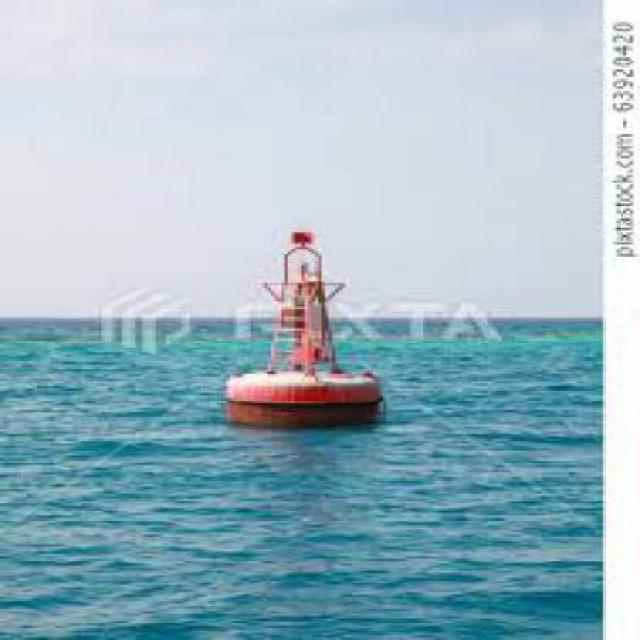buoy: (207, 217, 401, 416)
